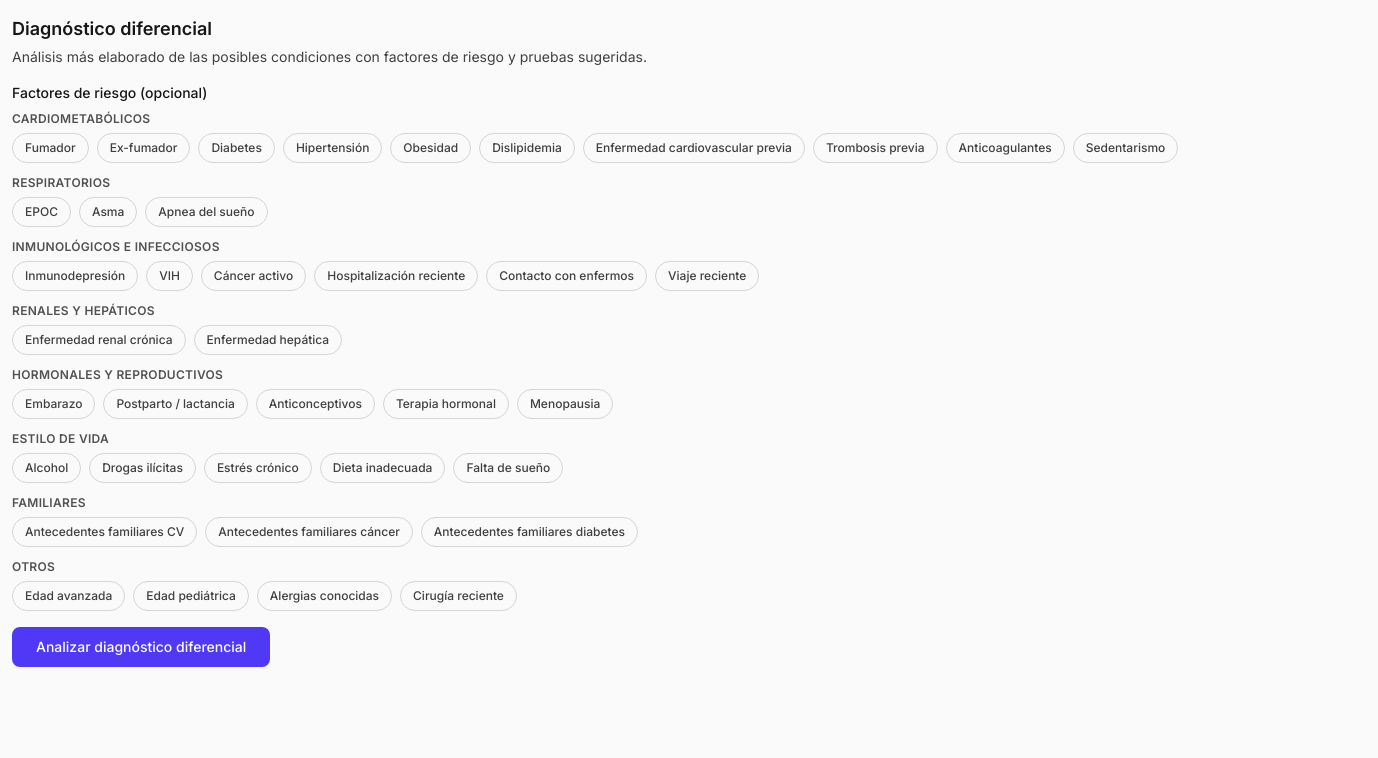
it: DifferentialSection › muestra el diagnóstico diferencial con factores de riesgo y pruebas
expect the heading "Diagnóstico diferencial" is shown: met, box [12,18,212,39]
Click the button "Analizar diagnóstico diferencial".
click(141, 647)  # box [12,627,270,667]
(page scrolled)
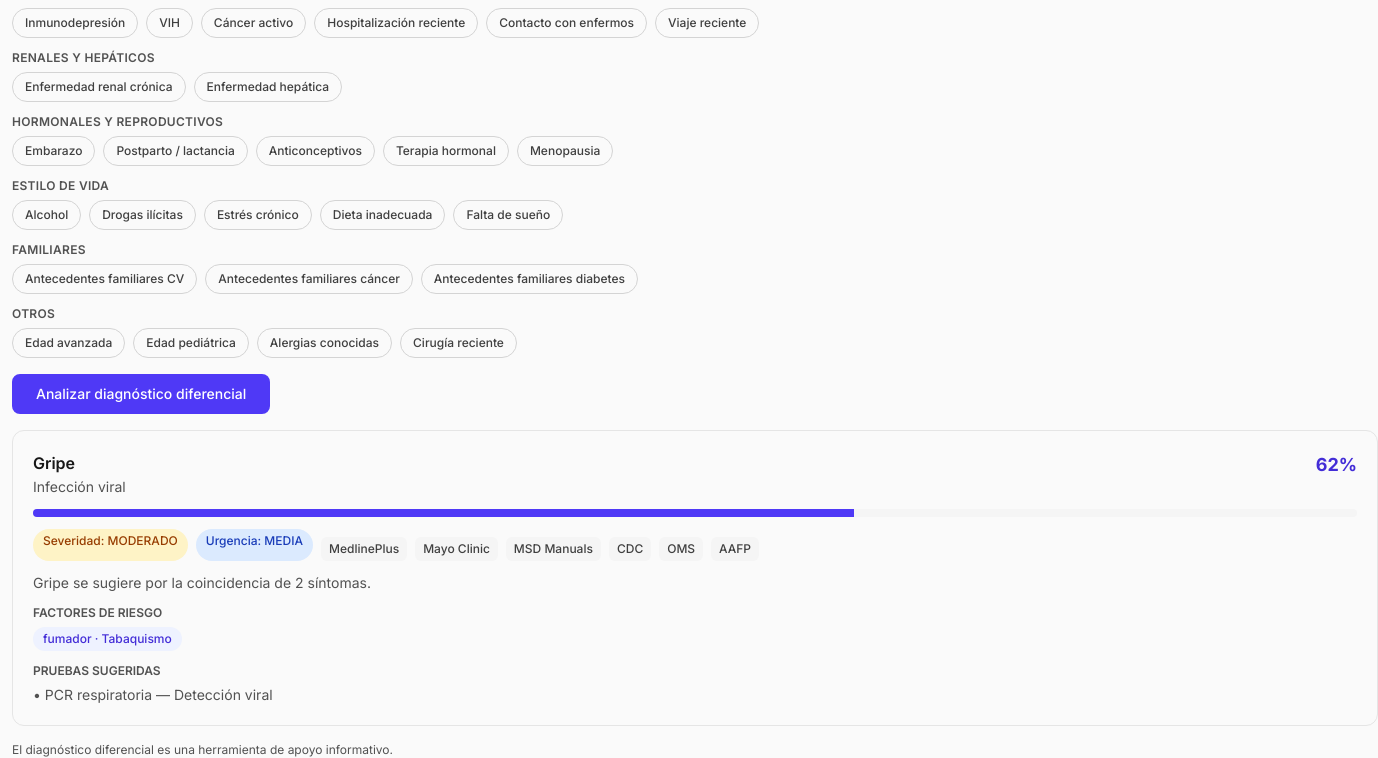
expect the heading "Gripe" is shown: met, box [33,453,75,473]
expect the text "62%" is shown: met, box [1316,451,1357,479]
expect the text "fumador · Tabaquismo" is shown: met, box [33,627,182,651]
